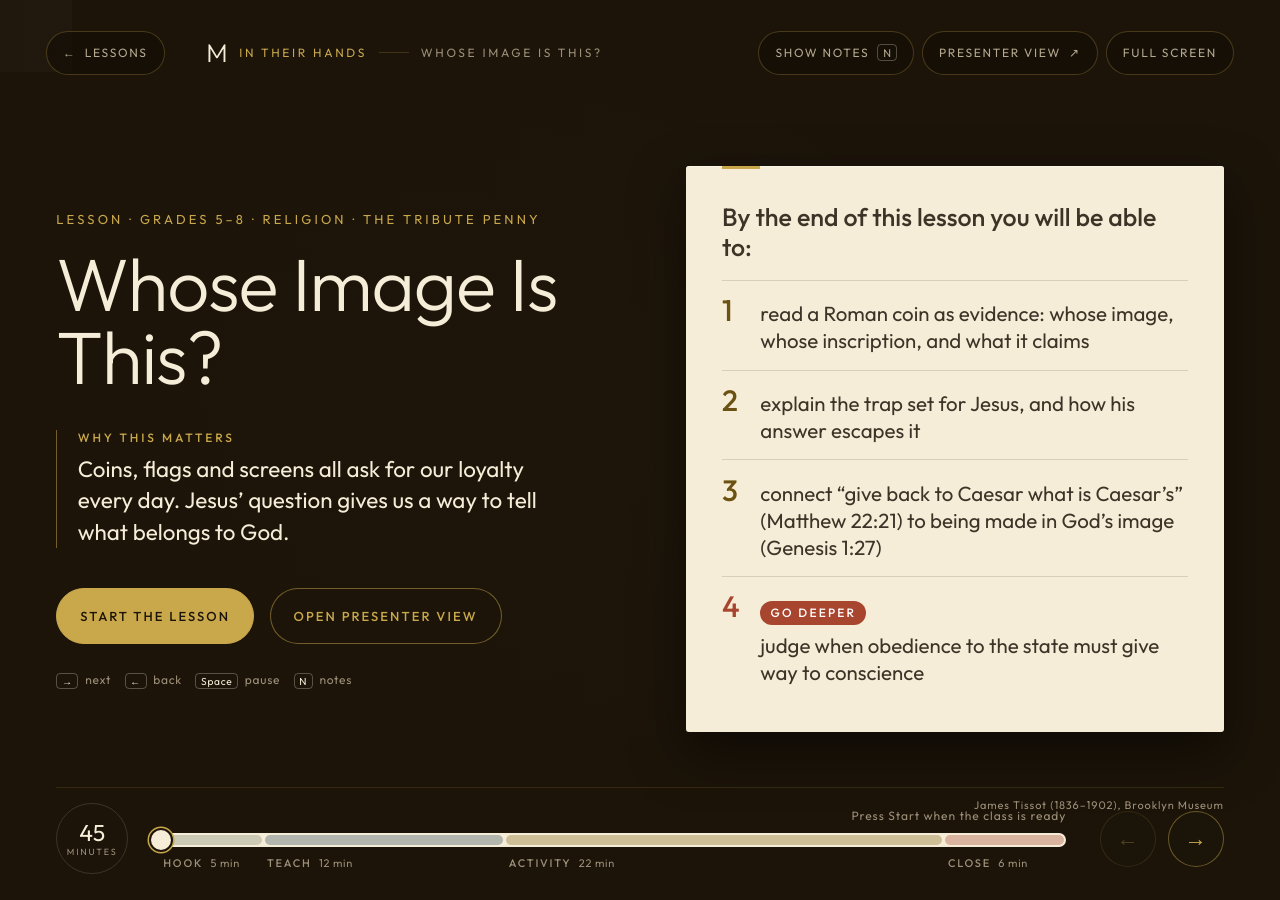
Test: Lesson mode classroom view › opens on the cover and starts with the button
Expected: the heading "Whose Image Is This?" is shown, [56, 248, 622, 394]
Step 1. Click the button "Start the lesson" → [155, 616], box [56, 588, 254, 644]
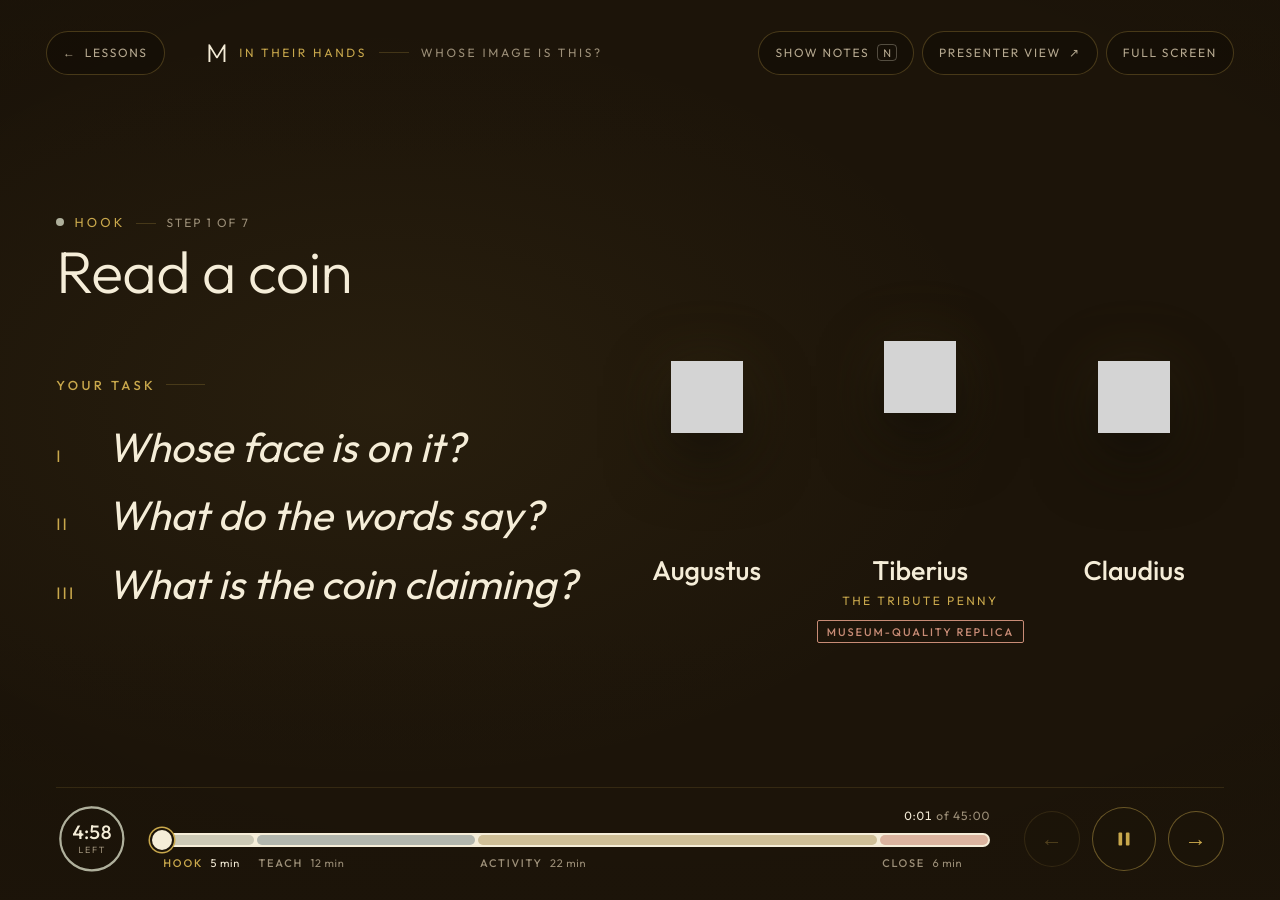
Expected: the heading "Read a coin" is shown, [56, 234, 352, 308]
